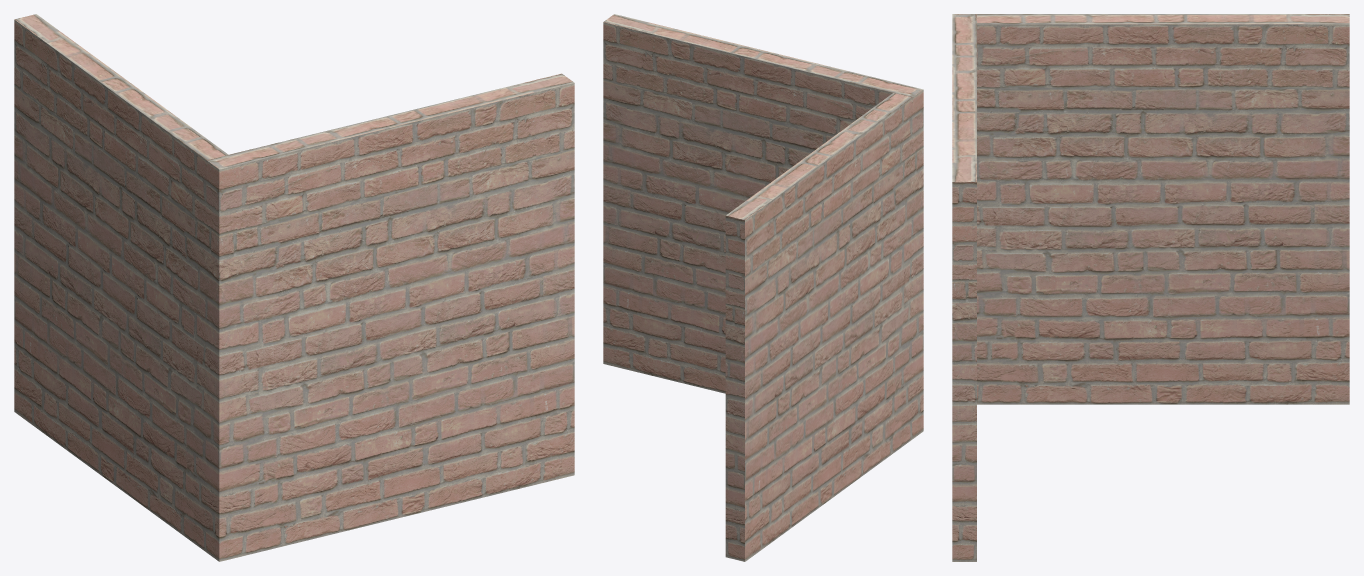
File: WallsLHight.fbx
3 renders of one model, left to right at view 1: azimuth 30°, elevation 25°; view 2: azimuth 150°, elevation 25°; view 3: azimuth 270°, elevation 25°, orthographic. The views are drawn at different scales.
Parts seen in each view (by area): view 1: Walls_L; view 2: Walls_L; view 3: Walls_L.
Boxes of the visible parts, x1,y1,x2,y2 form: Walls_L: [14, 14, 574, 561]; Walls_L: [603, 14, 923, 561]; Walls_L: [952, 14, 1349, 561].
Bounding box in the file's own units: 320 × 338 × 320.
1 material, 1 textured.
